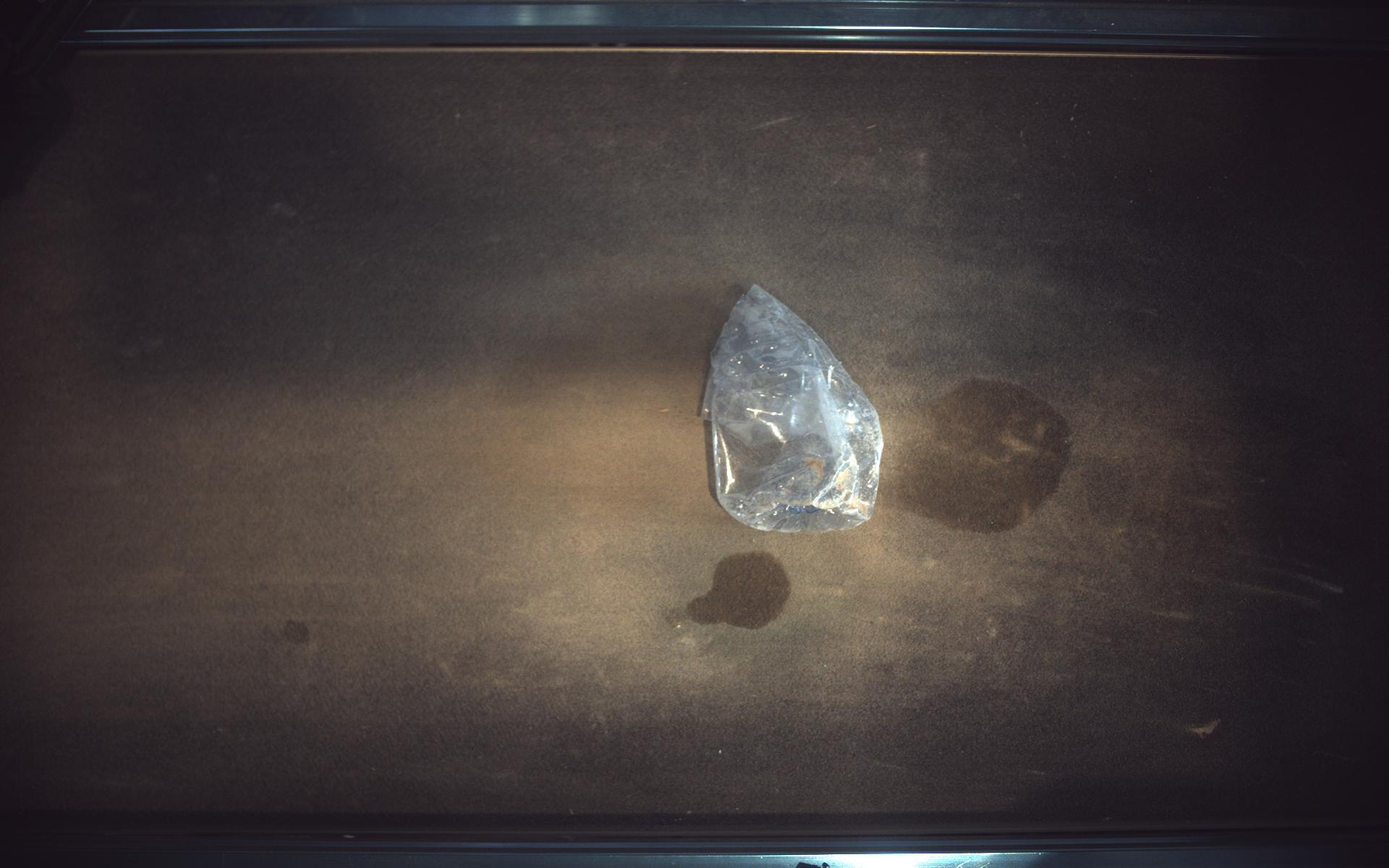general_w: (702, 284, 884, 532)
